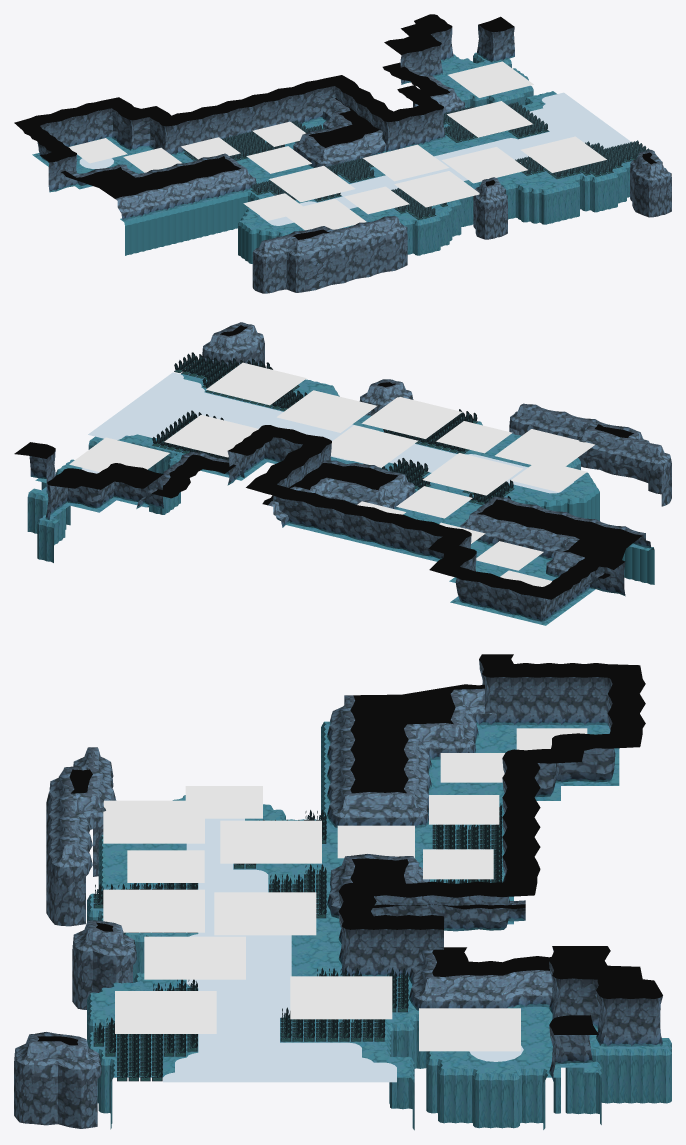
The picture shows the model from 3 angles, top to bottom: view 1: azimuth 30°, elevation 25°; view 2: azimuth 150°, elevation 25°; view 3: azimuth 270°, elevation 25°; orthographic projection. The views are drawn at different scales.
Parts seen in each view (by area): view 1: polySurface197_4_0_node, polySurface173_2_0_node, polySurface217_2_0_node, ami10_7_0_node, ami9_7_0_node, cliff_1_0_node.003, polySurface197_5_0_node, polySurface173_3_0_node, cliff_0_0_node, polySurface12_DUP1_DUP_6_0_node, polySurface238_2_0_node, ami_6_0_node.001 (+11 smaller); view 2: polySurface197_4_0_node, polySurface173_2_0_node, ami10_7_0_node, polySurface173_3_0_node, polySurface197_5_0_node, polySurface12_DUP1_DUP_6_0_node, ami9_7_0_node, polySurface217_2_0_node, cliff_1_0_node, ami_6_0_node.001, ami_6_0_node, polySurface238_2_0_node (+9 smaller); view 3: polySurface173_2_0_node, polySurface197_4_0_node, ami10_7_0_node, polySurface12_DUP1_DUP_6_0_node, ami9_7_0_node, polySurface197_5_0_node, cliff_1_0_node.002, polySurface173_3_0_node, polySurface238_2_0_node, cliff_0_0_node.002, ami_6_0_node.001, polySurface217_2_0_node (+12 smaller).
Part boxes in pixels (box(x1,y1,x2,y2)): polySurface197_4_0_node: box(37, 100, 277, 220); polySurface173_2_0_node: box(276, 25, 514, 168); polySurface217_2_0_node: box(252, 216, 407, 293); ami10_7_0_node: box(363, 61, 533, 183); ami9_7_0_node: box(68, 121, 355, 220); cliff_1_0_node.003: box(403, 162, 630, 255); polySurface197_5_0_node: box(14, 93, 276, 198); polySurface173_3_0_node: box(268, 14, 514, 147); cliff_0_0_node: box(124, 192, 302, 263); polySurface12_DUP1_DUP_6_0_node: box(351, 92, 632, 191); polySurface238_2_0_node: box(473, 149, 671, 239); ami_6_0_node.001: box(394, 136, 606, 207); polySurface197_4_0_node: box(343, 496, 651, 621); polySurface173_2_0_node: box(29, 437, 415, 534); ami10_7_0_node: box(69, 390, 418, 471); polySurface173_3_0_node: box(14, 425, 398, 508); polySurface197_5_0_node: box(333, 499, 642, 599); polySurface12_DUP1_DUP_6_0_node: box(81, 372, 455, 473); ami9_7_0_node: box(357, 453, 587, 586); polySurface217_2_0_node: box(509, 403, 671, 506); cliff_1_0_node: box(341, 446, 652, 625); ami_6_0_node.001: box(206, 362, 462, 438); ami_6_0_node: box(436, 421, 594, 471); polySurface238_2_0_node: box(202, 322, 413, 415); polySurface173_2_0_node: box(327, 837, 662, 1081); polySurface197_4_0_node: box(327, 660, 615, 865); ami10_7_0_node: box(144, 892, 520, 1051); polySurface12_DUP1_DUP_6_0_node: box(163, 884, 523, 1082); ami9_7_0_node: box(185, 728, 587, 879); polySurface197_5_0_node: box(350, 654, 645, 837); cliff_1_0_node.002: box(386, 1014, 671, 1130); polySurface173_3_0_node: box(338, 837, 662, 1034); polySurface238_2_0_node: box(14, 920, 136, 1128); cliff_0_0_node.002: box(175, 885, 668, 1077); ami_6_0_node.001: box(103, 889, 216, 1033); polySurface217_2_0_node: box(46, 747, 116, 926).
Bounding box in the file's own units: 1387 × 171 × 1013.
31 materials, 30 textured.
